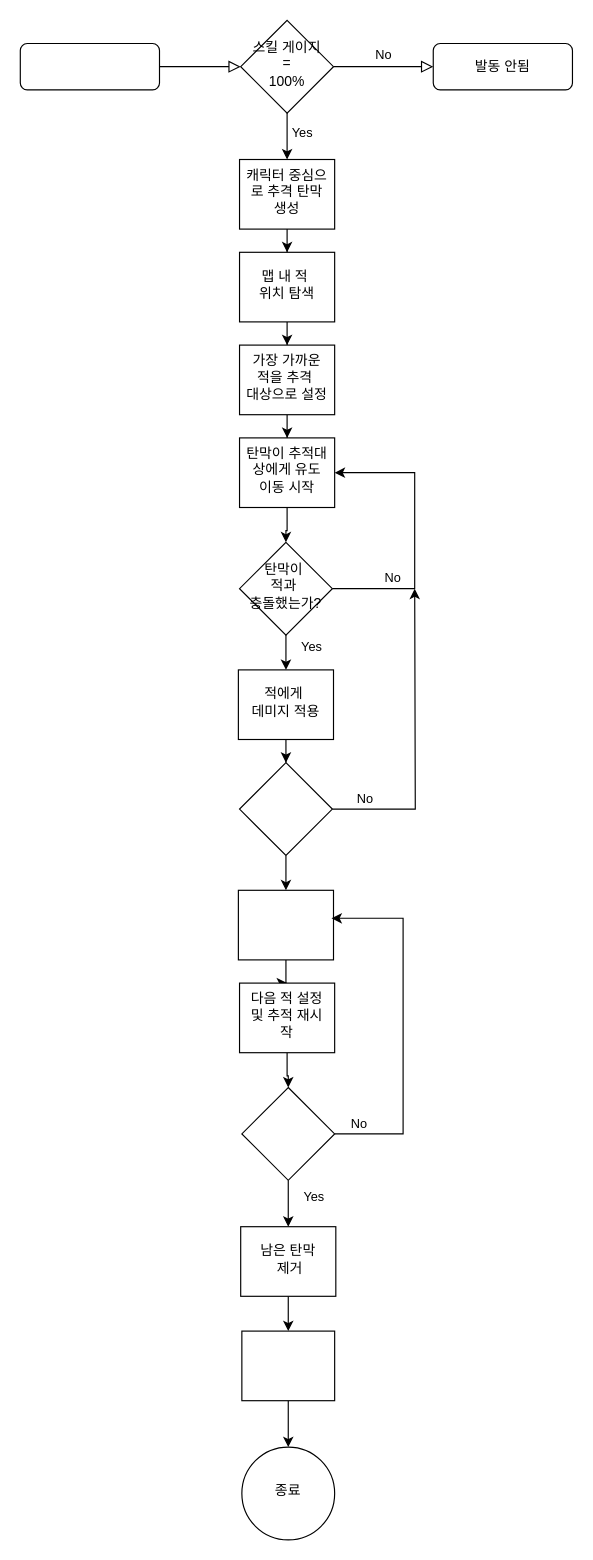
Some shapes in this 593 by 1560 pixel diagram are drawn without their labels. Each missing label, with the centre of its shape:
"가장 가까운 적 재탐색" goes at pixel 285 924.
"모든 적이 격추 되었는가?" goes at pixel 288 1133.
"스킬 키 입력" goes at pixel 89 66.
"쿨다운 시작 및 궁극기 종료" goes at pixel 288 1365.
"해당 적이 사망했는가?" goes at pixel 285 808.
